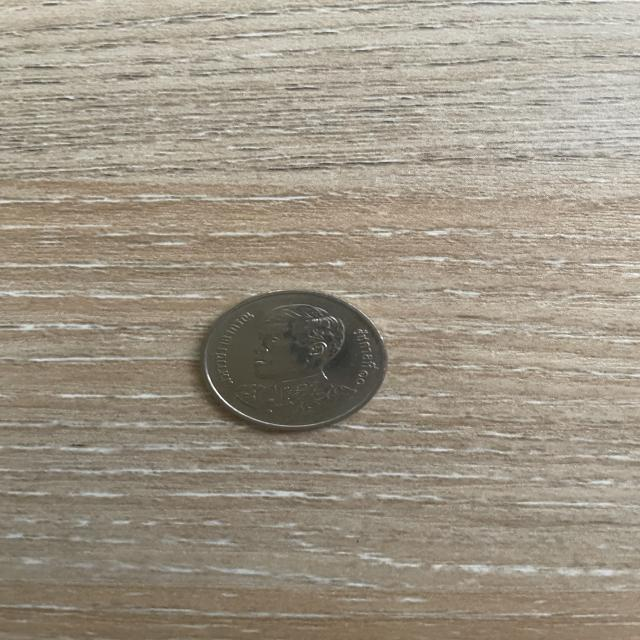1 Bath: (188, 282, 397, 438)
